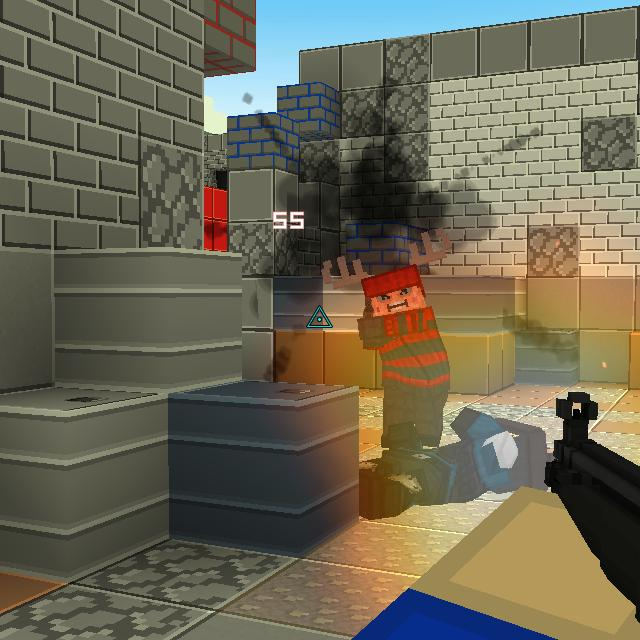enemy: (310, 225, 464, 447)
